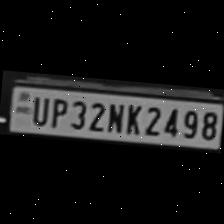2: (140, 102, 163, 138), (86, 97, 107, 132)
3: (66, 95, 88, 131)
4: (159, 103, 180, 137)
8: (197, 106, 220, 141)
9: (178, 105, 199, 138)
K: (122, 100, 143, 136)
N: (104, 98, 126, 134)
P: (48, 94, 68, 128)
U: (28, 91, 50, 126)
